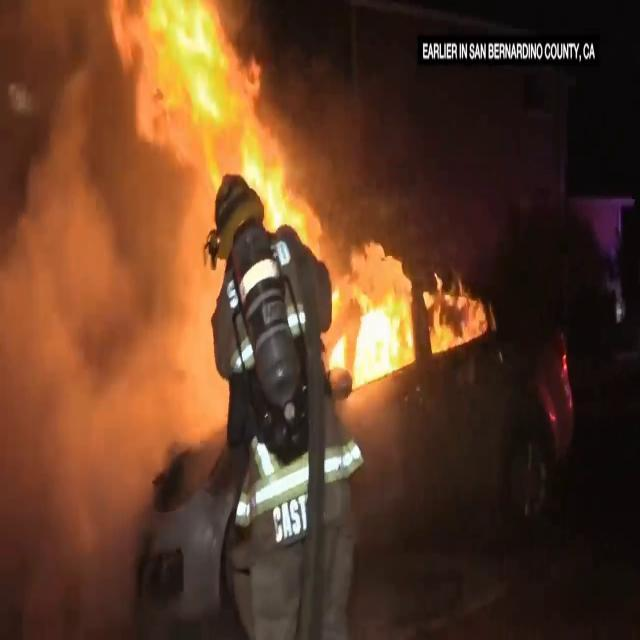Fire: (120, 2, 310, 254), (324, 271, 414, 396), (422, 273, 494, 360)
Smoke: (0, 4, 222, 585)
